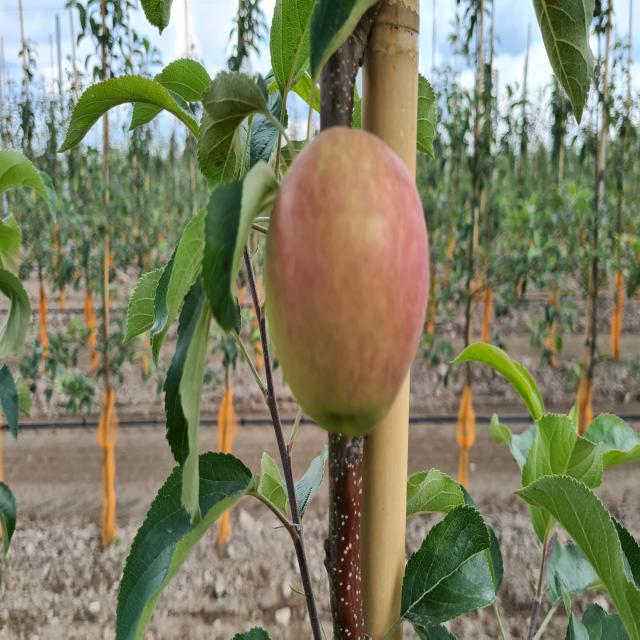Apple: (265, 127, 429, 436)
